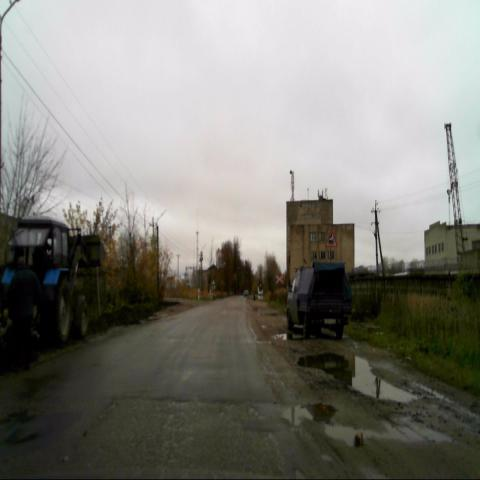1_2: (325, 228, 338, 250)
